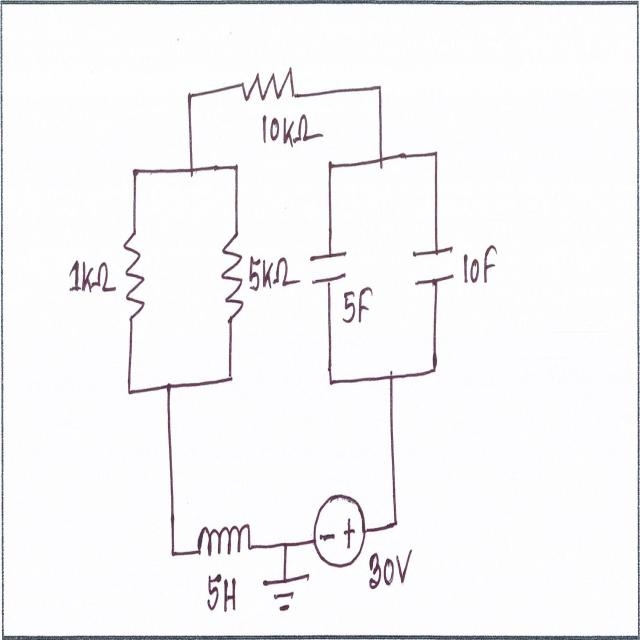capacitor: (412, 238, 457, 292), (309, 248, 347, 292)
ground: (262, 571, 311, 617)
inductor: (194, 524, 257, 572)
resistor: (120, 226, 150, 327), (238, 62, 299, 109), (218, 228, 245, 334)
voltage_source: (310, 487, 370, 572)
